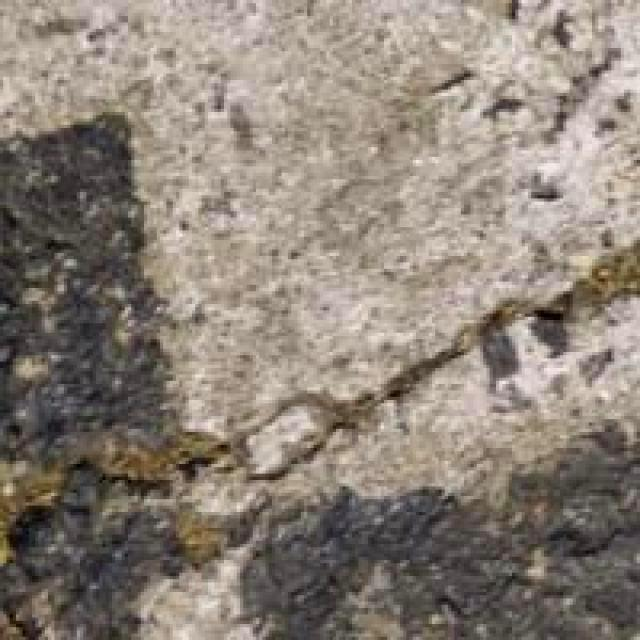SurfaceCrack: (218, 270, 620, 476)
